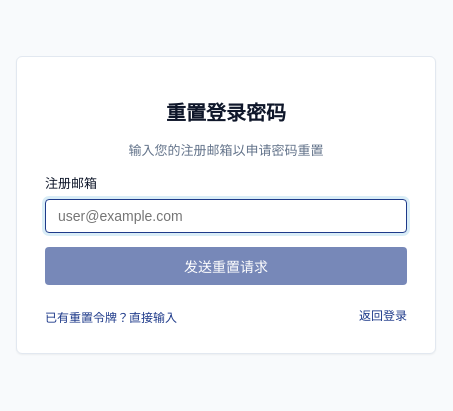
Test: Authentication & Security Invariants › handles password reset request submission
This screenshot has width=453, height=411.
Type "agent@agency.com" into the field labelled "注册邮箱" at {"x": 226, "y": 216}, box [45,199,407,233]
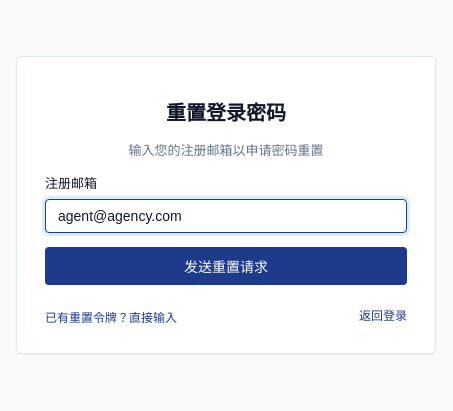
Click the button "发送重置请求" at {"x": 226, "y": 266}, box [45,247,407,285]
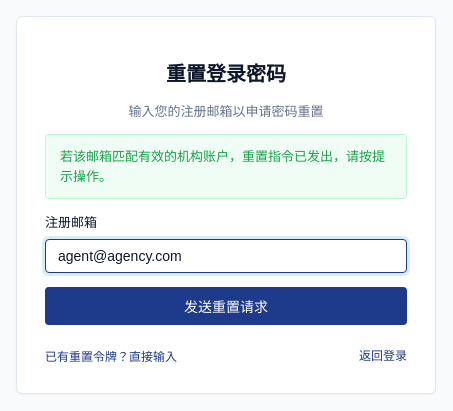
Expected: the text "若该邮箱匹配有效的机构账户，重置指令已发出，请按提示操作。" is shown, [60,147,392,186]
